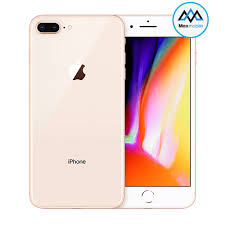iphone8: (23, 12, 196, 211), (25, 12, 125, 212)
